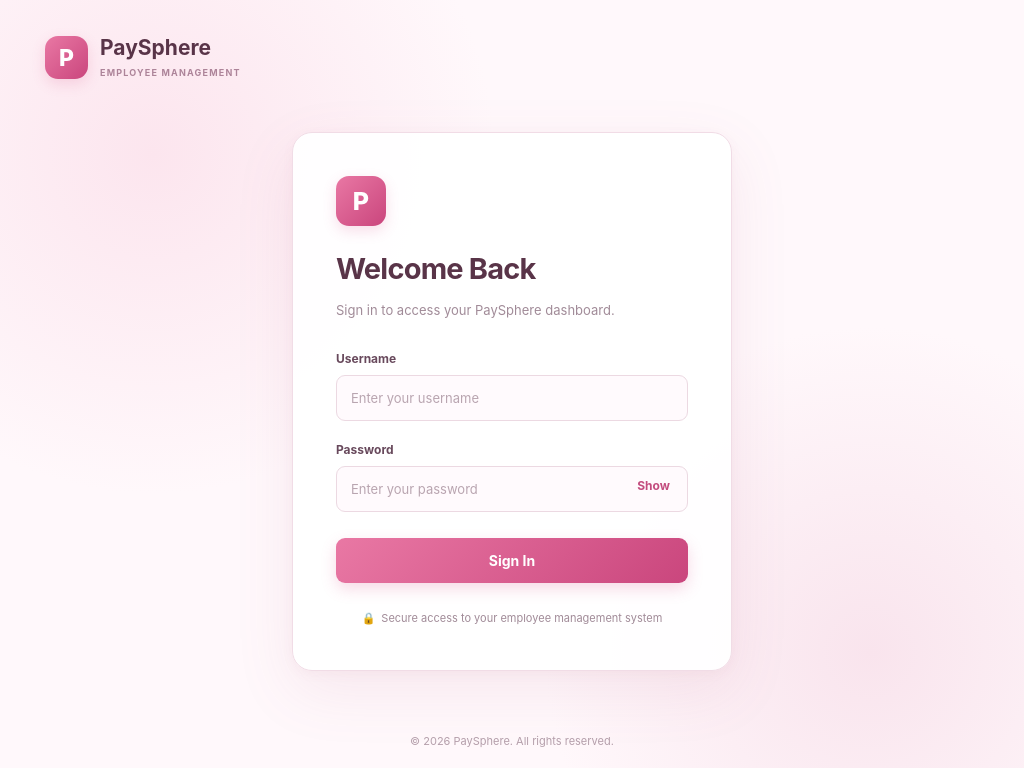
Test: Login component › handles a network error
The width and height of the screenshot is (1024, 768).
Type "admin" into the field labelled "Username" at (512, 398), box x1=336 y1=375 x2=688 y2=421
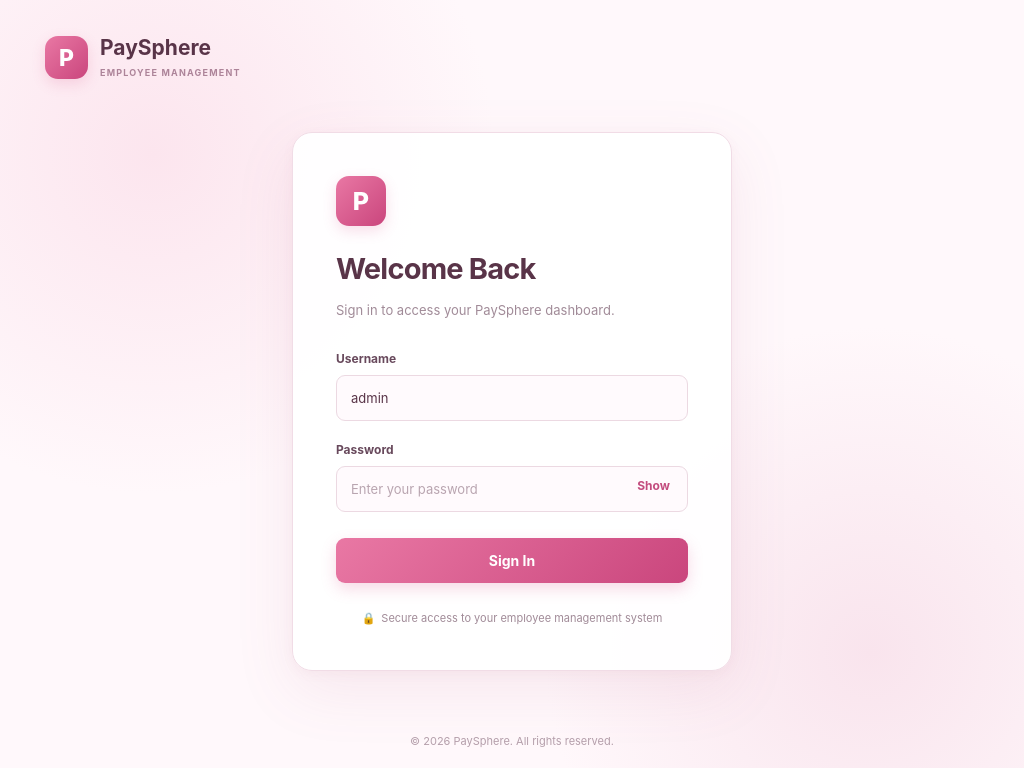
Type "test-password" into the password field labelled "Password" at (512, 489), box x1=336 y1=466 x2=688 y2=512
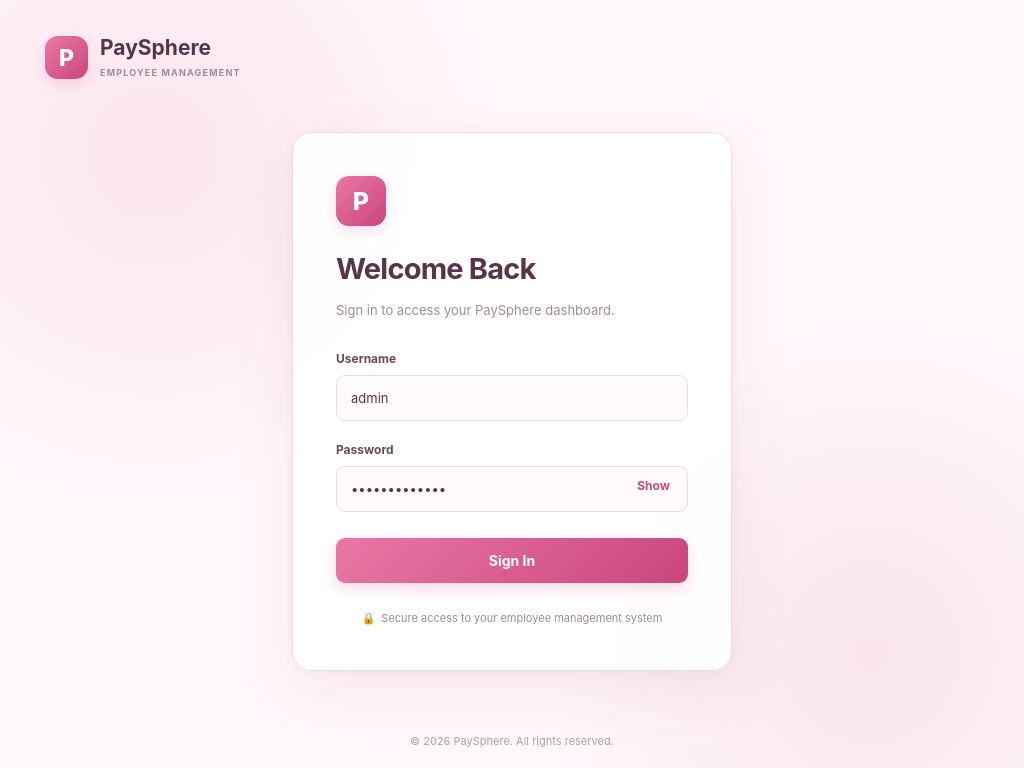
Click the button "Sign In" at (512, 560), box x1=336 y1=538 x2=688 y2=583
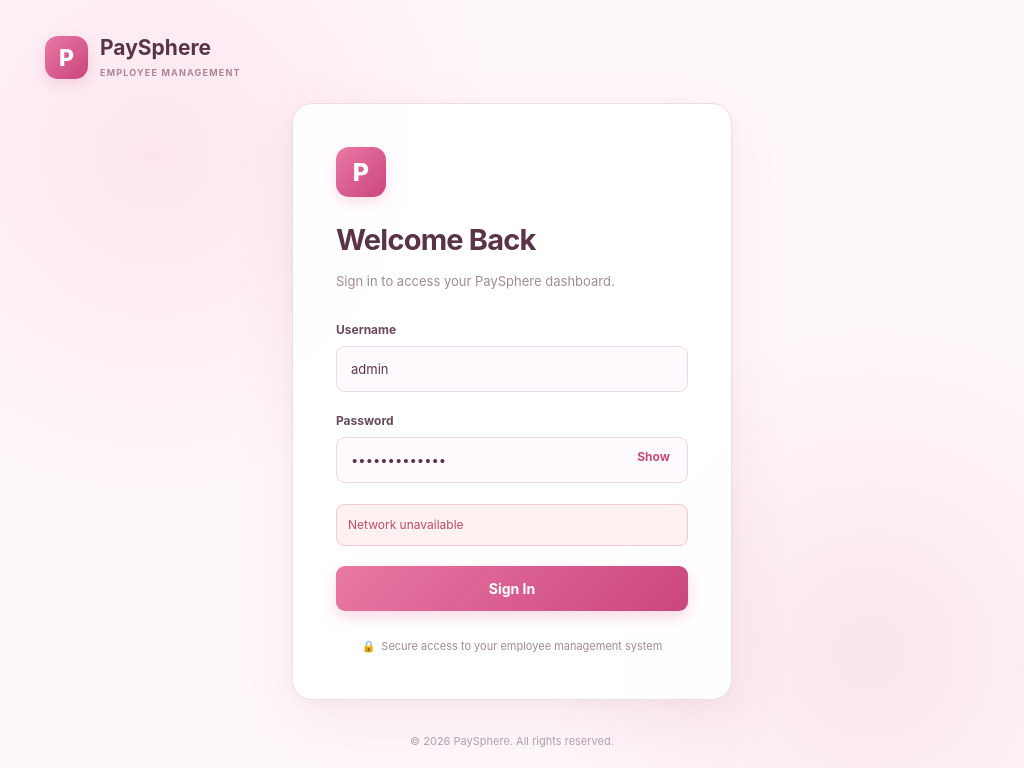
Now the message reads "Network unavailable", box x1=348 y1=517 x2=464 y2=532
